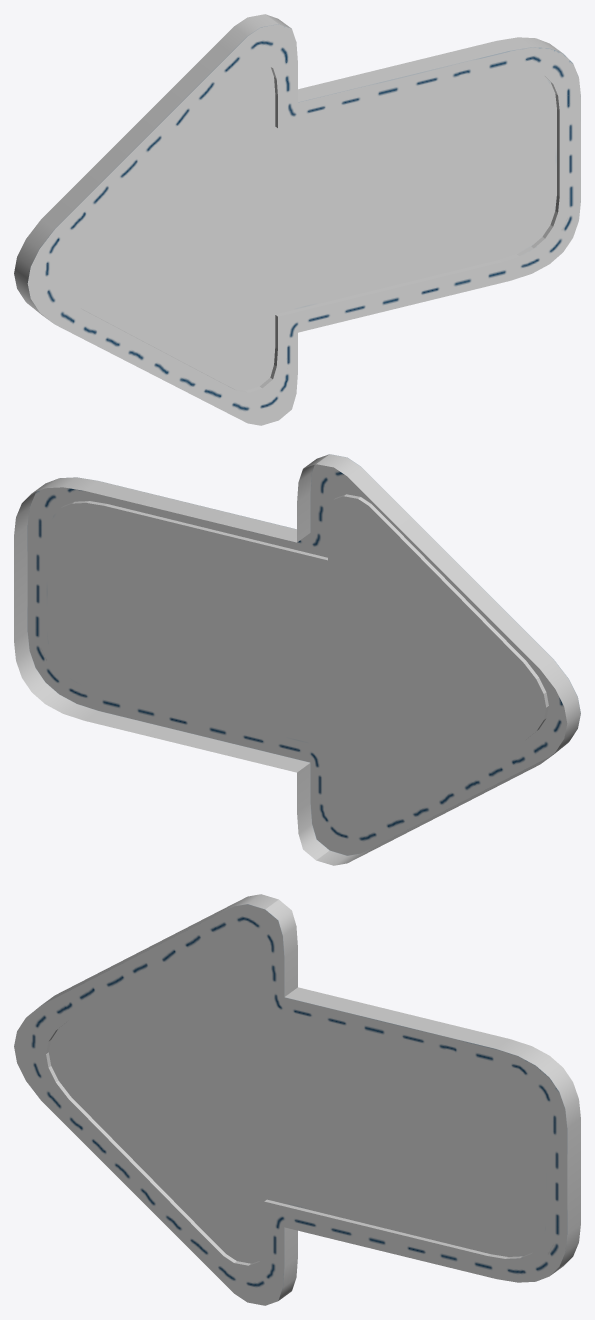
Rendered from ArrowCardboard.FBX.
3 views of the same model, one above another, from view 1: azimuth 30°, elevation 25°; view 2: azimuth 150°, elevation 25°; view 3: azimuth 330°, elevation 25° (orthographic).
Visible parts, largest first — view 1: ArrowCardboard; view 2: ArrowCardboard; view 3: ArrowCardboard.
Boxes of the visible parts, x1=… form: ArrowCardboard: x1=14, y1=14, x2=580, y2=425; ArrowCardboard: x1=14, y1=454, x2=580, y2=865; ArrowCardboard: x1=14, y1=894, x2=580, y2=1305.
Bounding box in the file's own units: 1.1 × 0.7553 × 0.0471.
